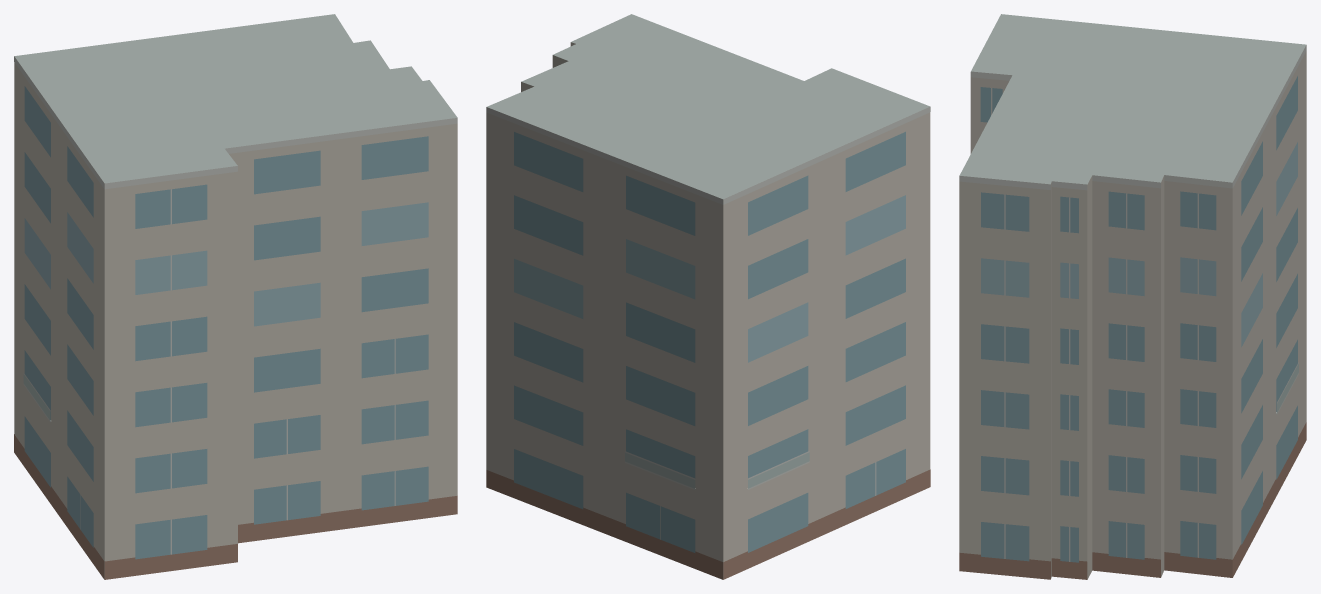
The model's file is survey-upis-33031757.glb.
3 renders of one model, left to right at view 1: azimuth 30°, elevation 25°; view 2: azimuth 150°, elevation 25°; view 3: azimuth 270°, elevation 25°, orthographic. The views are drawn at different scales.
Visible parts, largest first — view 1: survey-upis-33031757.tmp; view 2: survey-upis-33031757.tmp; view 3: survey-upis-33031757.tmp.
Boxes of the visible parts, box(x1,y1,x2,y2) form: survey-upis-33031757.tmp: box(14, 14, 457, 579); survey-upis-33031757.tmp: box(486, 14, 930, 579); survey-upis-33031757.tmp: box(959, 14, 1306, 579).
Bounding box in the file's own units: 15.36 × 16.6 × 13.22.
